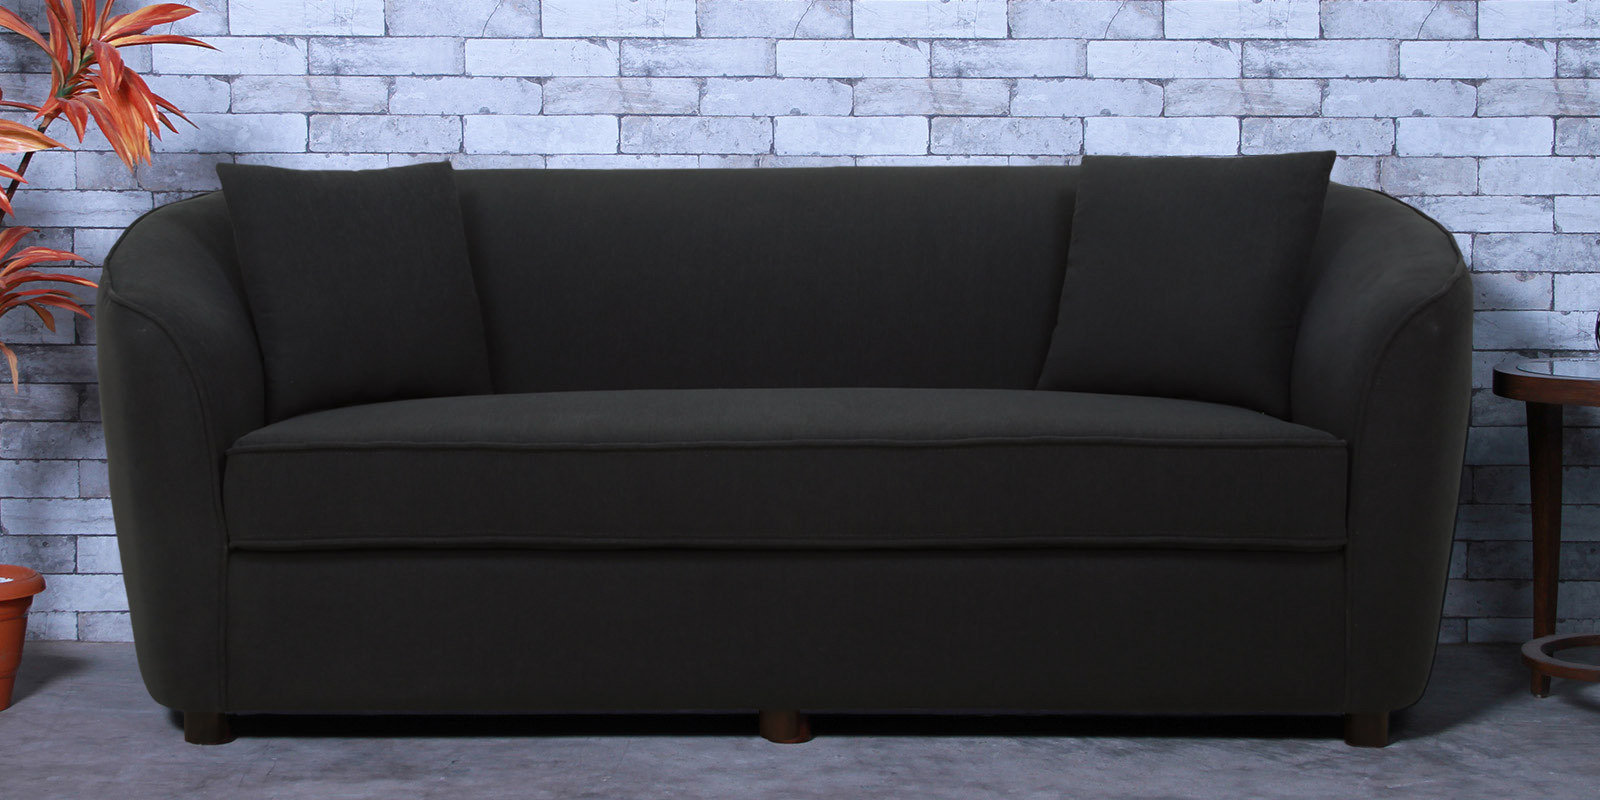Mamore Three Seater Sofa in Charcoal Grey Color by CasaCraft: (97, 147, 1474, 749)
